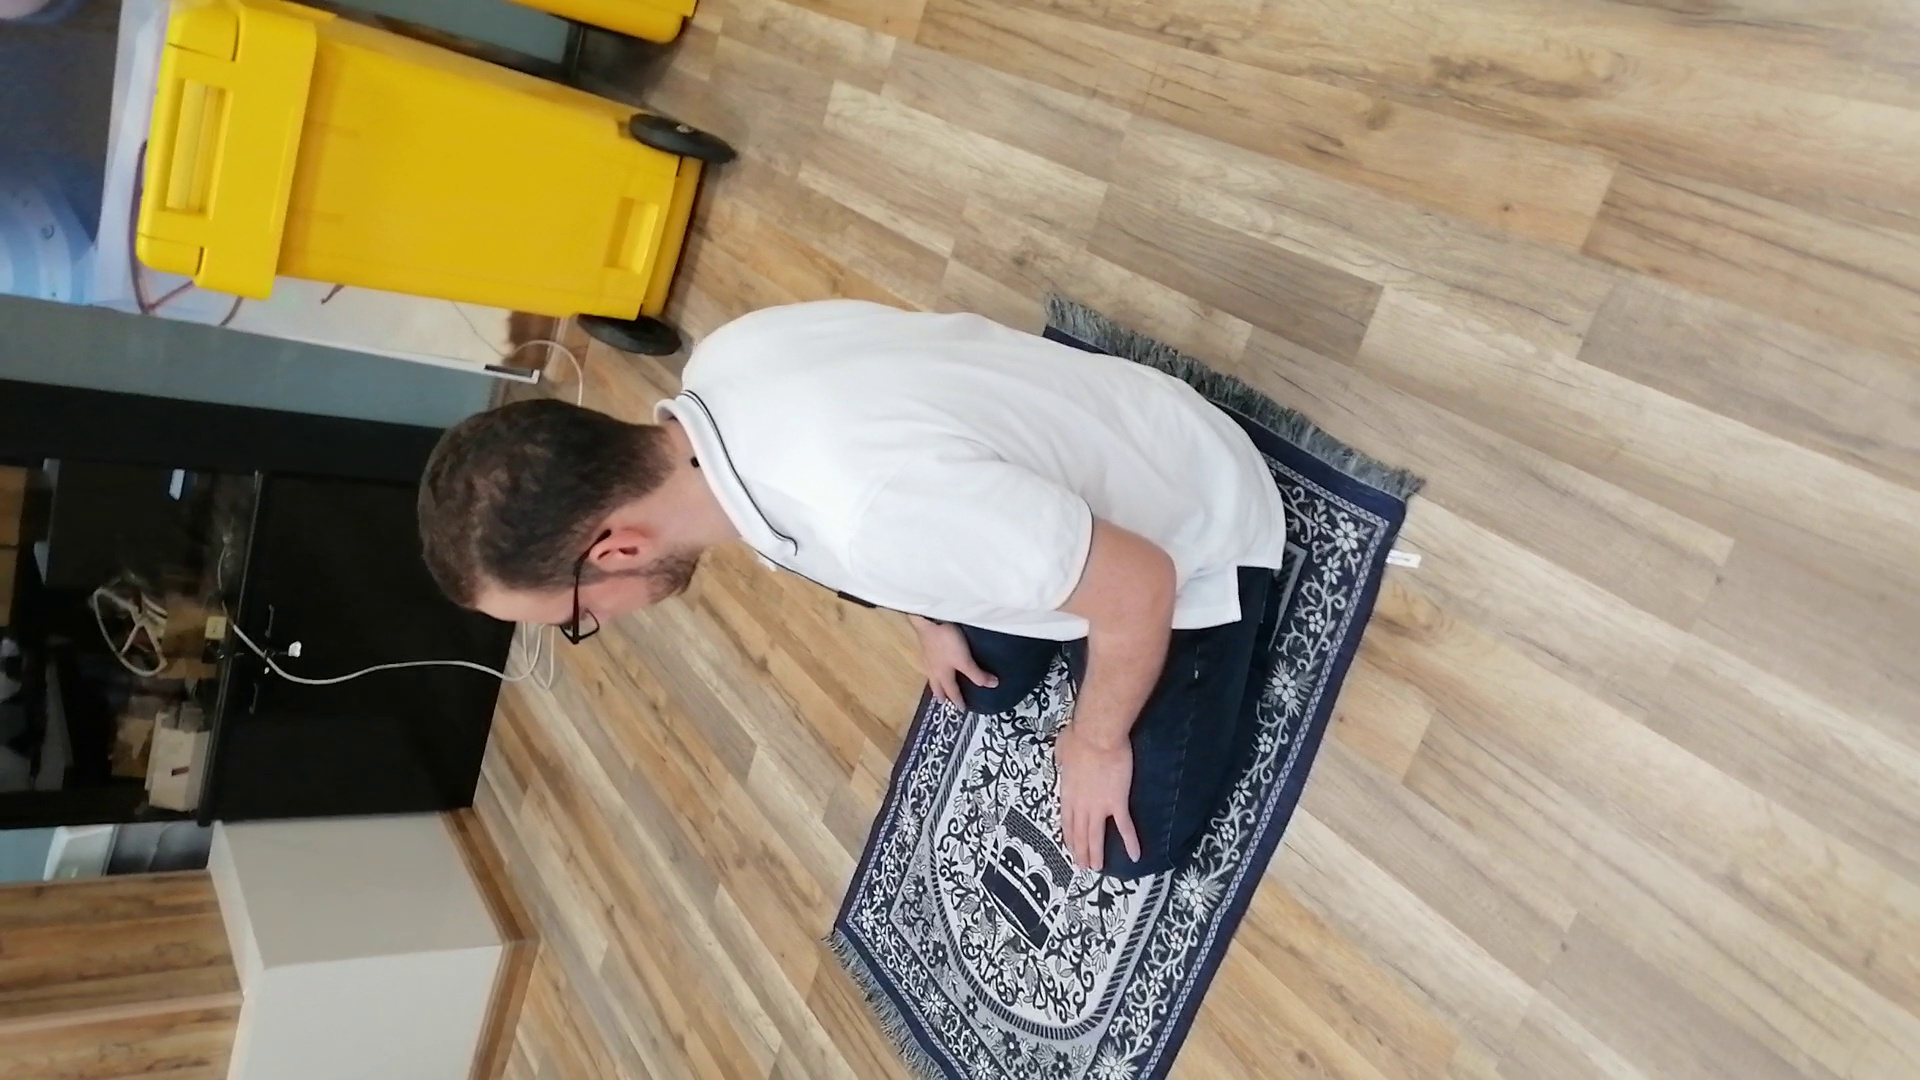sitting: (401, 285, 1302, 885)
